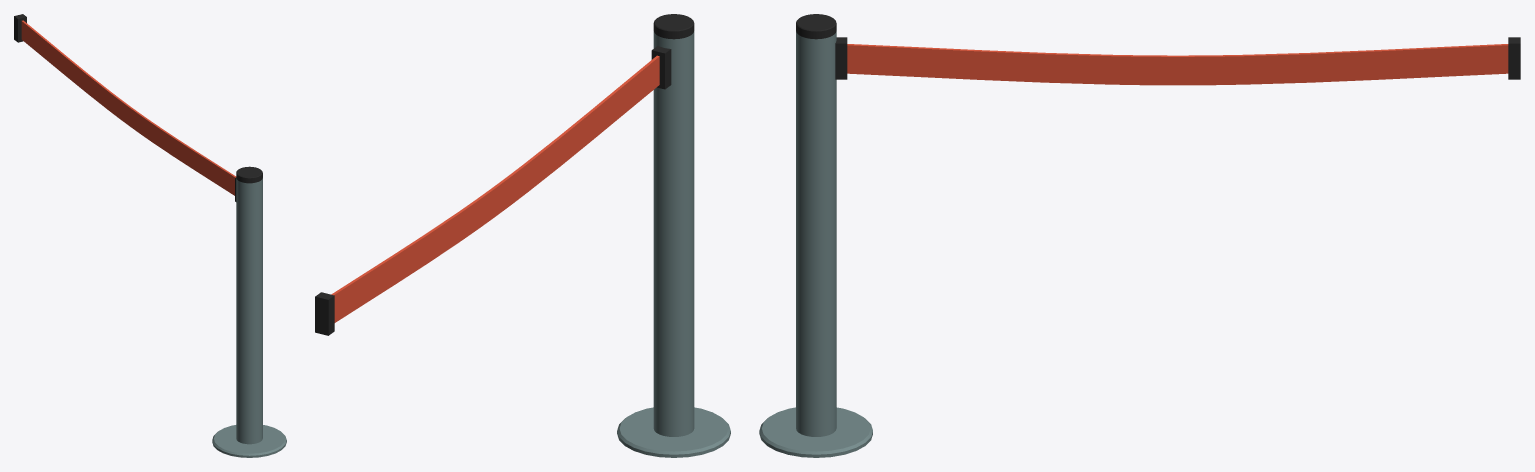
Rendered from 17_9_1_Model_AIRPORT_0.obj.
The picture shows the model from 3 angles, left to right: view 1: azimuth 30°, elevation 25°; view 2: azimuth 150°, elevation 25°; view 3: azimuth 270°, elevation 25°; orthographic projection. The views are drawn at different scales.
Parts seen in each view (by area): view 1: 17.9.1.Model_AIRPORT_0; view 2: 17.9.1.Model_AIRPORT_0; view 3: 17.9.1.Model_AIRPORT_0.
Part boxes in pixels (x1,y1,x2,y2): 17.9.1.Model_AIRPORT_0: (14,14,286,457); 17.9.1.Model_AIRPORT_0: (315,14,730,457); 17.9.1.Model_AIRPORT_0: (759,14,1520,457).
Size of the model in its own units: 0.2288 by 0.9139 by 1.53.
Materials: 1 (1 with a texture image).
